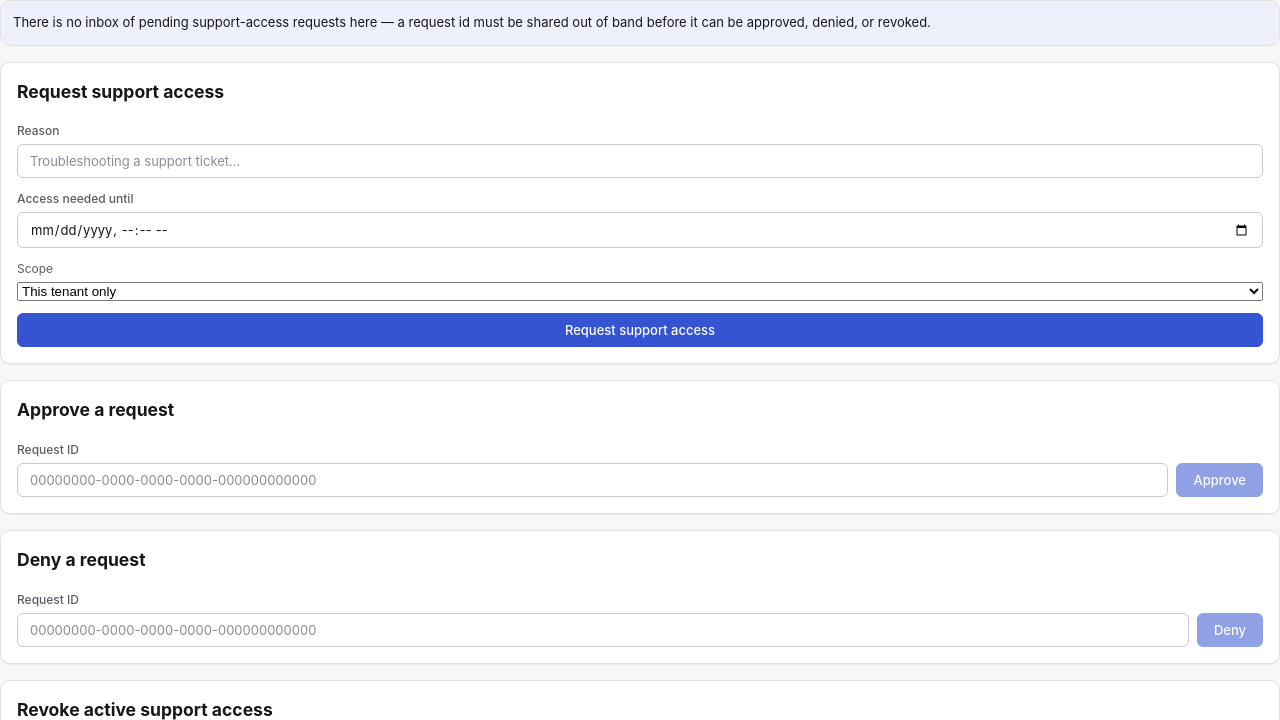
SupportAccessPanel › shows a permission-denied-shaped message on a 403 from deny
Type "req-3" into the field labelled "Request ID" below "Deny a request" at (603, 630), box [17,613,1189,647]
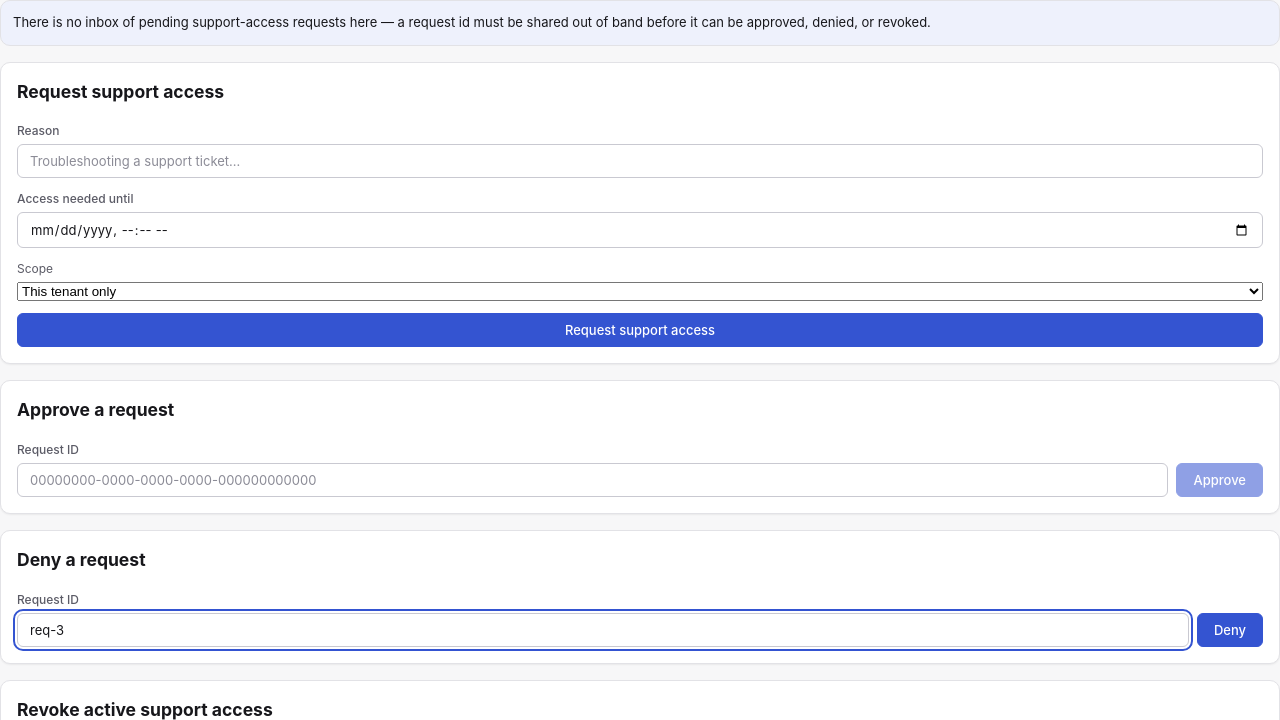
Click the button "Deny" at (1230, 630), box [1197,613,1263,647]
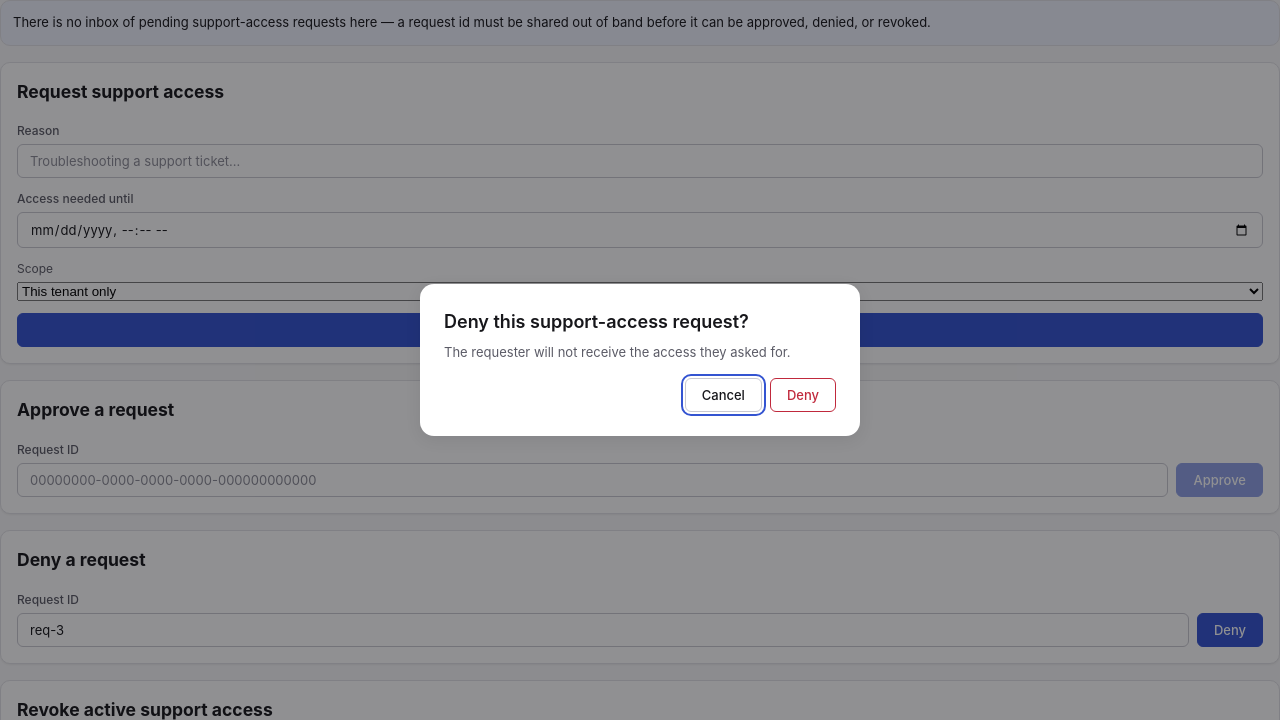
Click the button "Deny" at (803, 395), box [770,378,836,412]
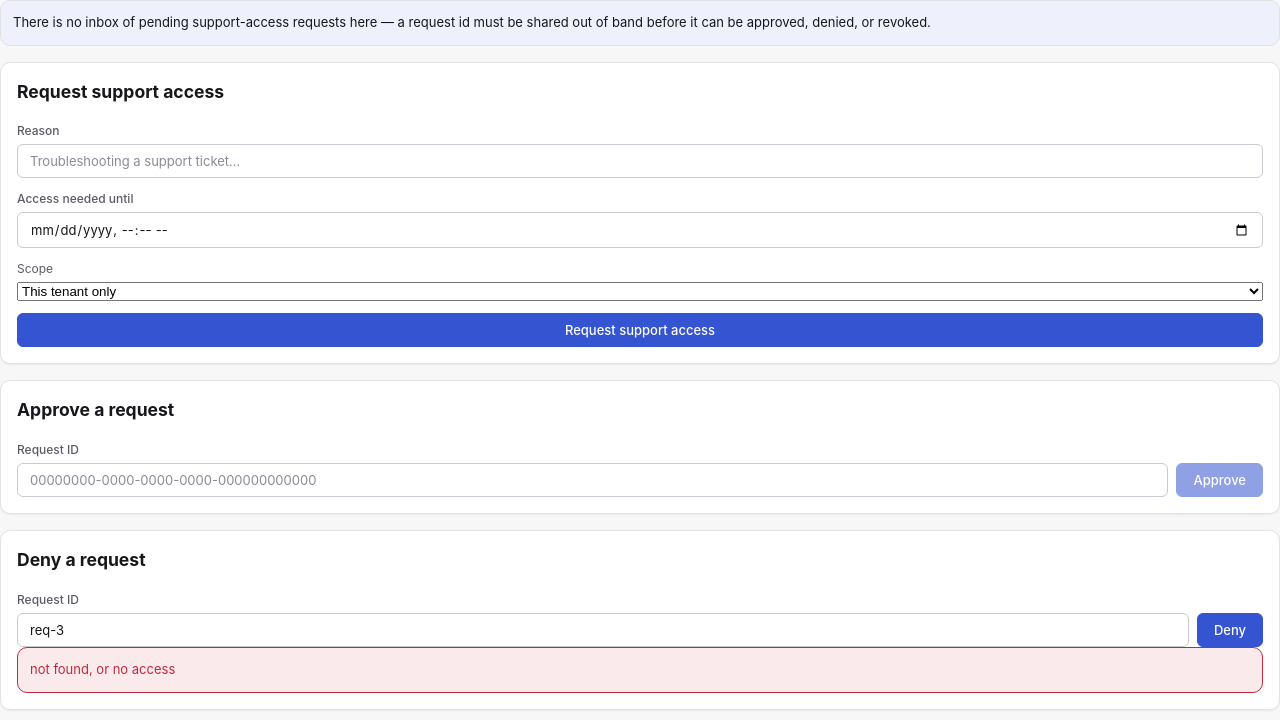
Result: the text "not found, or no access" is shown at [30,661,175,677]
